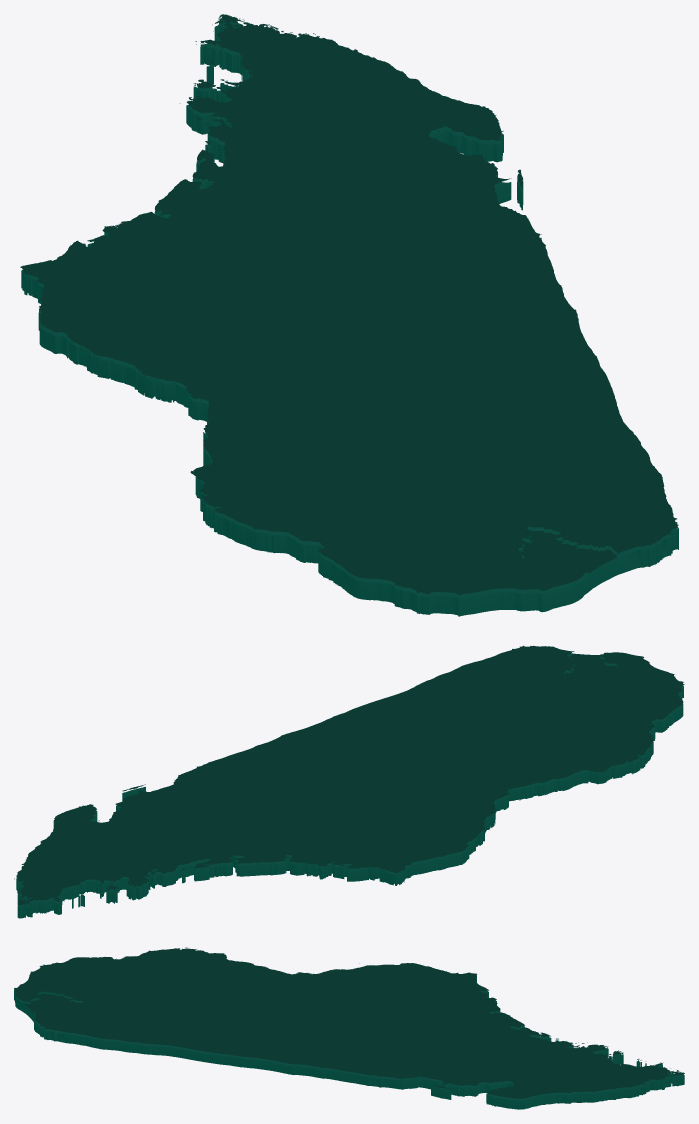
The model's file is madagascar.old.glb.
3 renders of one model, top to bottom at view 1: azimuth 30°, elevation 25°; view 2: azimuth 150°, elevation 25°; view 3: azimuth 270°, elevation 25°, orthographic. The views are drawn at different scales.
Parts seen in each view (by area): view 1: Ihosy, Atsimo-Andrefana, Ampanihy Ouest, Betroka, Mahabo, Miandrivazo, Tsaratanana, Besalampy, Maevatanana, Tsiroanomandidy, Ambatofinandrahana, Amboasary-Atsimo (+82 smaller); view 2: Ihosy, Diana, Boeny, Ampanihy Ouest, Betroka, Mahabo, Miandrivazo, Melaky, Tsaratanana, Besalampy, Maevatanana, Tsiroanomandidy (+73 smaller); view 3: Sava, Ihosy, Atsinanana, Ampanihy Ouest, Betroka, Mahabo, Analanjirofo, Miandrivazo, Tsaratanana, Besalampy, Vatovavy-Fitovinany, Atsimo-Atsinanana (+78 smaller).
Boxes of the visible parts, x1,y1,x2,y2 form: Ihosy: (365,429,526,500); Atsimo-Andrefana: (195,477,473,616); Ampanihy Ouest: (348,529,491,594); Betroka: (430,468,561,525); Mahabo: (231,384,366,443); Miandrivazo: (157,321,333,390); Tsaratanana: (267,209,400,266); Besalampy: (20,258,177,304); Maevatanana: (231,224,346,280); Tsiroanomandidy: (210,302,342,355); Ambatofinandrahana: (314,358,466,412); Amboasary-Atsimo: (526,500,637,553); Ihosy: (466,699,572,739); Diana: (17,876,150,918); Boeny: (234,855,374,881); Ampanihy Ouest: (592,672,684,706); Betroka: (503,680,577,713); Mahabo: (448,752,539,783); Miandrivazo: (403,767,473,821); Melaky: (374,813,495,885); Tsaratanana: (228,791,295,833); Besalampy: (366,830,426,873); Maevatanana: (263,801,338,835); Tsiroanomandidy: (363,780,432,815); Sava: (486,1084,646,1109); Ihosy: (136,984,209,1020); Atsinanana: (269,1060,409,1089); Ampanihy Ouest: (30,957,97,988); Betroka: (86,989,157,1016); Mahabo: (226,975,285,1002); Analanjirofo: (408,1076,513,1099); Miandrivazo: (278,981,378,1002); Tsaratanana: (391,1028,469,1051); Besalampy: (410,970,476,997); Vatovavy-Fitovinany: (177,1047,269,1070); Atsimo-Atsinanana: (86,1036,177,1057).
Size of the model in its own units: 7.31 by 0.2408 by 13.65.
